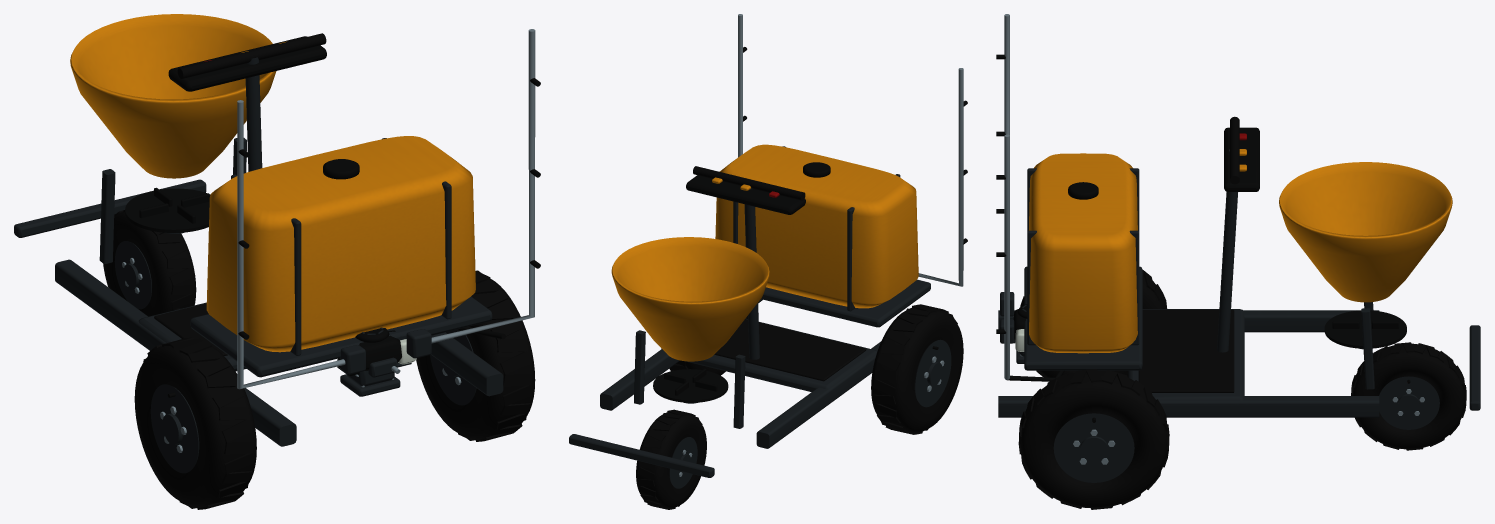
Rendered from RideOnSpreaderSprayer.gltf.
The picture shows the model from 3 angles, left to right: view 1: azimuth 30°, elevation 25°; view 2: azimuth 150°, elevation 25°; view 3: azimuth 270°, elevation 25°; orthographic projection. The views are drawn at different scales.
Visible parts, largest first — view 1: RideOnSpreaderSprayer__Body, RideOnSpreaderSprayer__Wheel_Rear-1, RideOnSpreaderSprayer__Wheel_Rear1, RideOnSpreaderSprayer__Wheel_Front, RideOnSpreaderSprayer__CutterRotor; view 2: RideOnSpreaderSprayer__Body, RideOnSpreaderSprayer__Wheel_Rear-1, RideOnSpreaderSprayer__Wheel_Front, RideOnSpreaderSprayer__CutterRotor; view 3: RideOnSpreaderSprayer__Body, RideOnSpreaderSprayer__Wheel_Rear1, RideOnSpreaderSprayer__Wheel_Front, RideOnSpreaderSprayer__CutterRotor, RideOnSpreaderSprayer__Wheel_Rear-1.
Boxes of the visible parts, box(x1,y1,x2,y2) form: RideOnSpreaderSprayer__Body: box(14, 14, 540, 446); RideOnSpreaderSprayer__Wheel_Rear-1: box(134, 337, 256, 509); RideOnSpreaderSprayer__Wheel_Rear1: box(416, 270, 535, 441); RideOnSpreaderSprayer__Wheel_Front: box(103, 210, 196, 316); RideOnSpreaderSprayer__CutterRotor: box(125, 187, 210, 232); RideOnSpreaderSprayer__Body: box(569, 14, 967, 477); RideOnSpreaderSprayer__Wheel_Rear-1: box(871, 304, 963, 434); RideOnSpreaderSprayer__Wheel_Front: box(636, 409, 706, 509); RideOnSpreaderSprayer__CutterRotor: box(653, 368, 728, 402); RideOnSpreaderSprayer__Body: box(996, 14, 1480, 417); RideOnSpreaderSprayer__Wheel_Rear1: box(1018, 369, 1169, 509); RideOnSpreaderSprayer__Wheel_Front: box(1351, 342, 1466, 450); RideOnSpreaderSprayer__CutterRotor: box(1324, 308, 1406, 348); RideOnSpreaderSprayer__Wheel_Rear-1: box(1020, 270, 1167, 377).
Size of the model in its own units: 1.1 by 1.38 by 1.63.
Materials: 1 (1 with a texture image).
